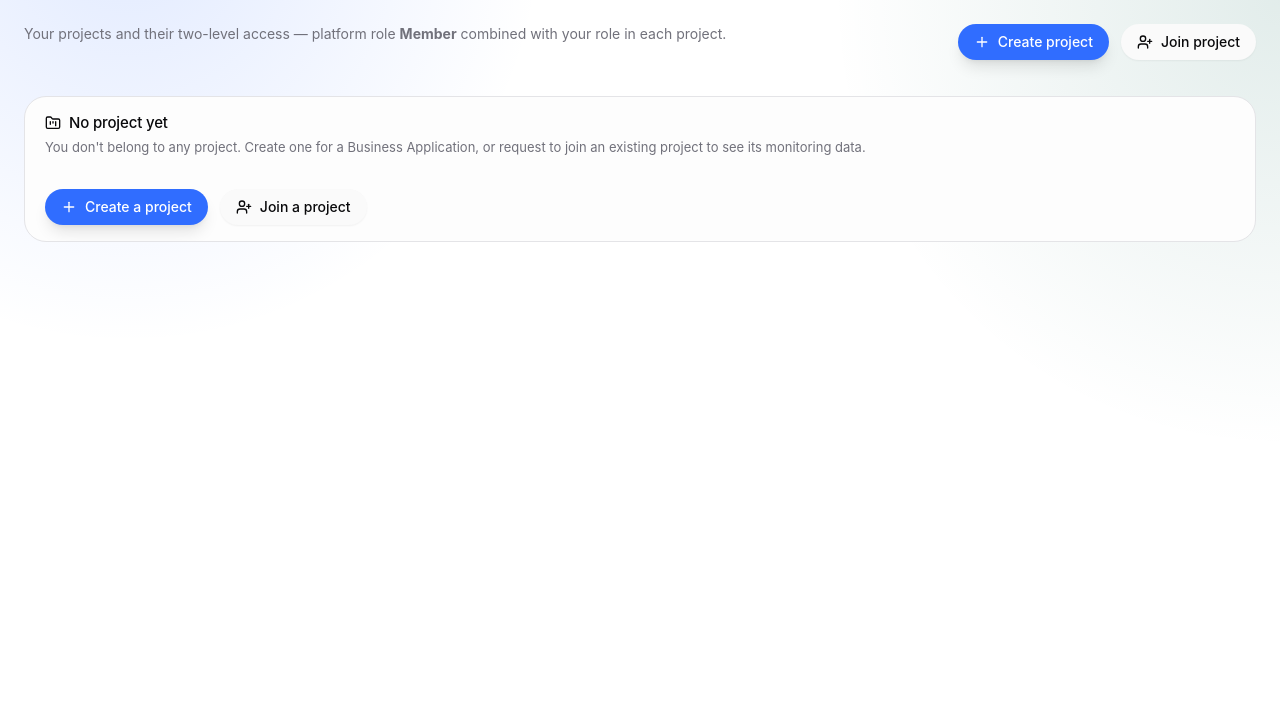
Test: Projects page › opens the login-page join form, searchable by project or Business Application
The width and height of the screenshot is (1280, 720).
Click the button "Join project" at (1188,42), box [1121,24,1256,60]
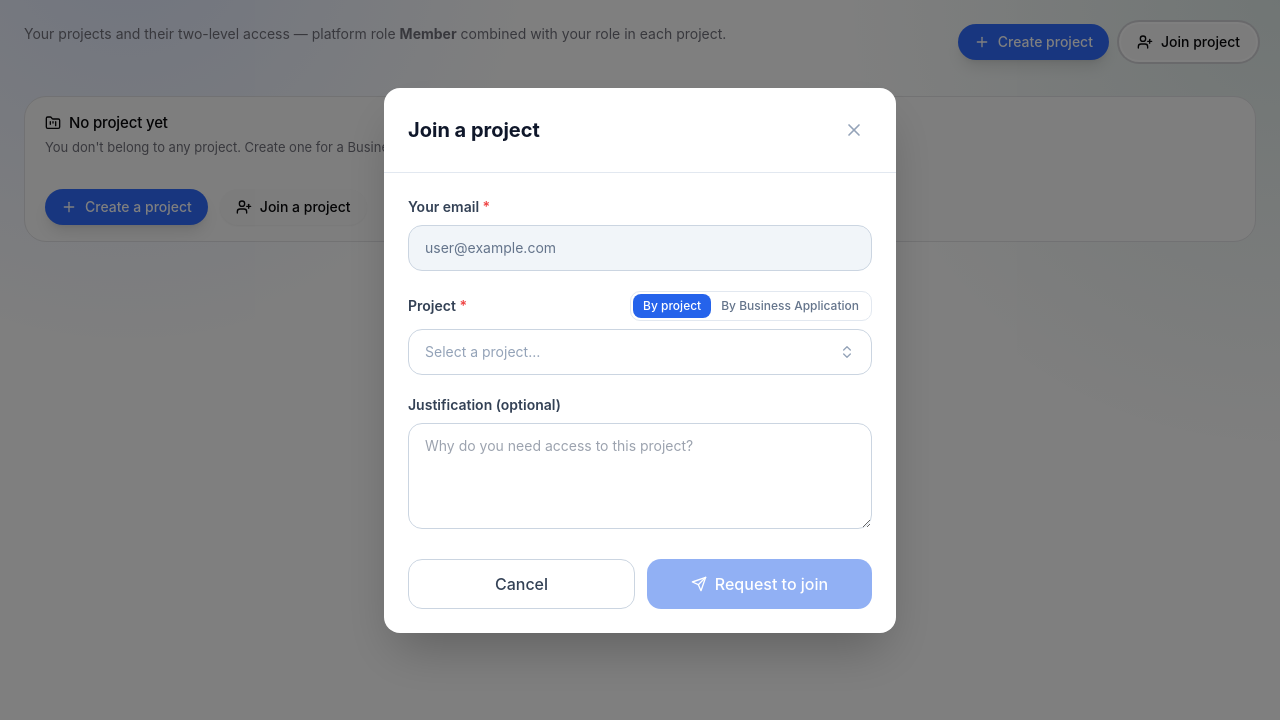
Check: the heading "Join a project" is shown, box [408,116,540,144]
Check: the button "By Business Application" is shown, box [711,294,869,318]
Click the dropdown labelled "Select a project…" at (483,351), box [408,328,872,374]
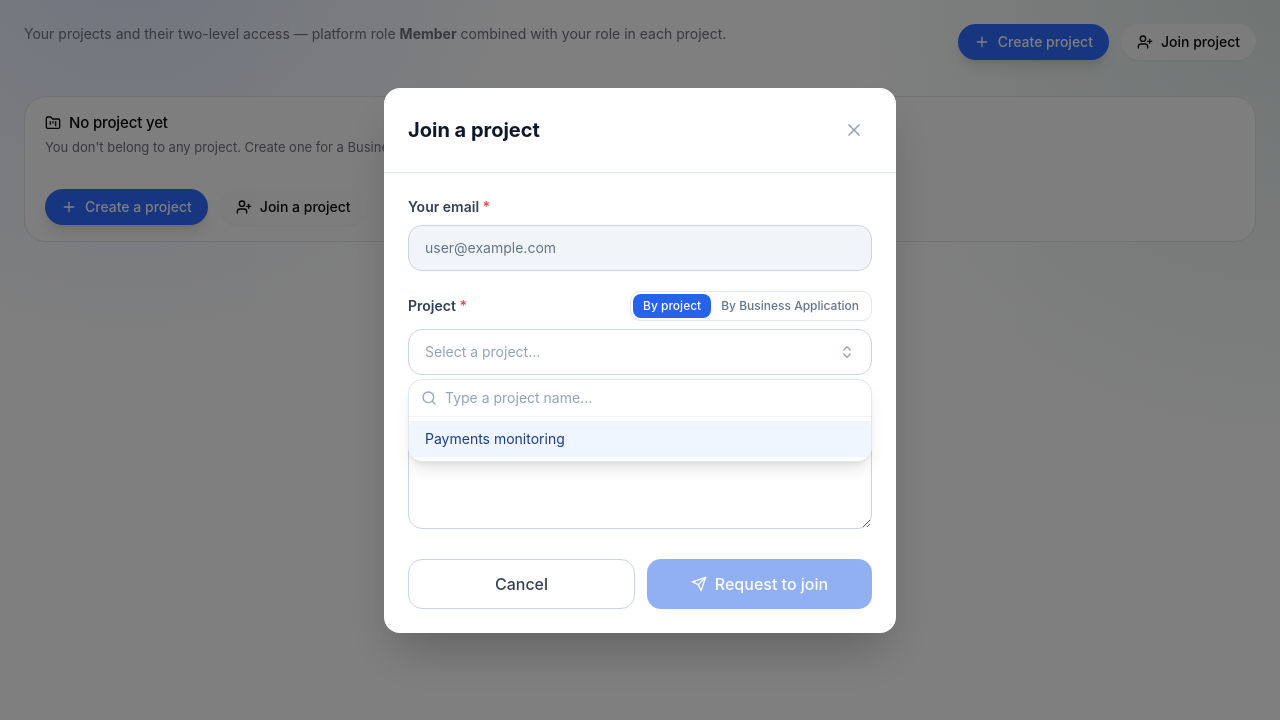
Check: the option "Payments monitoring" is shown, box [409,420,871,456]
